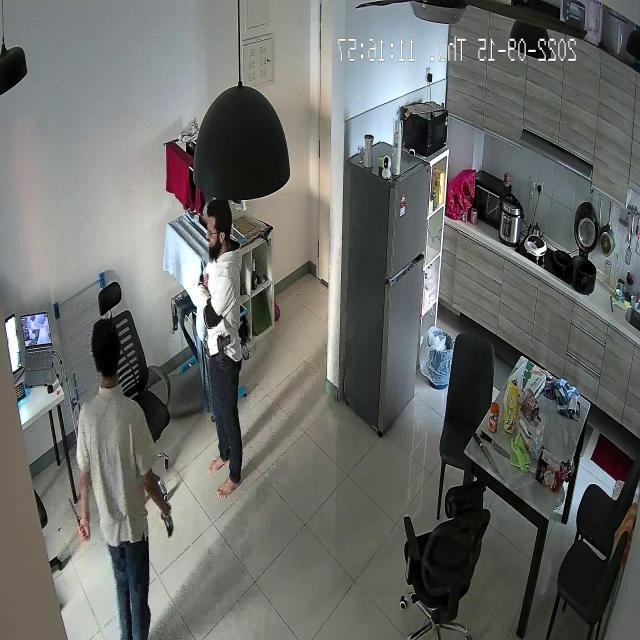Gun: (212, 334, 246, 366)
Knife: (63, 484, 97, 544)
